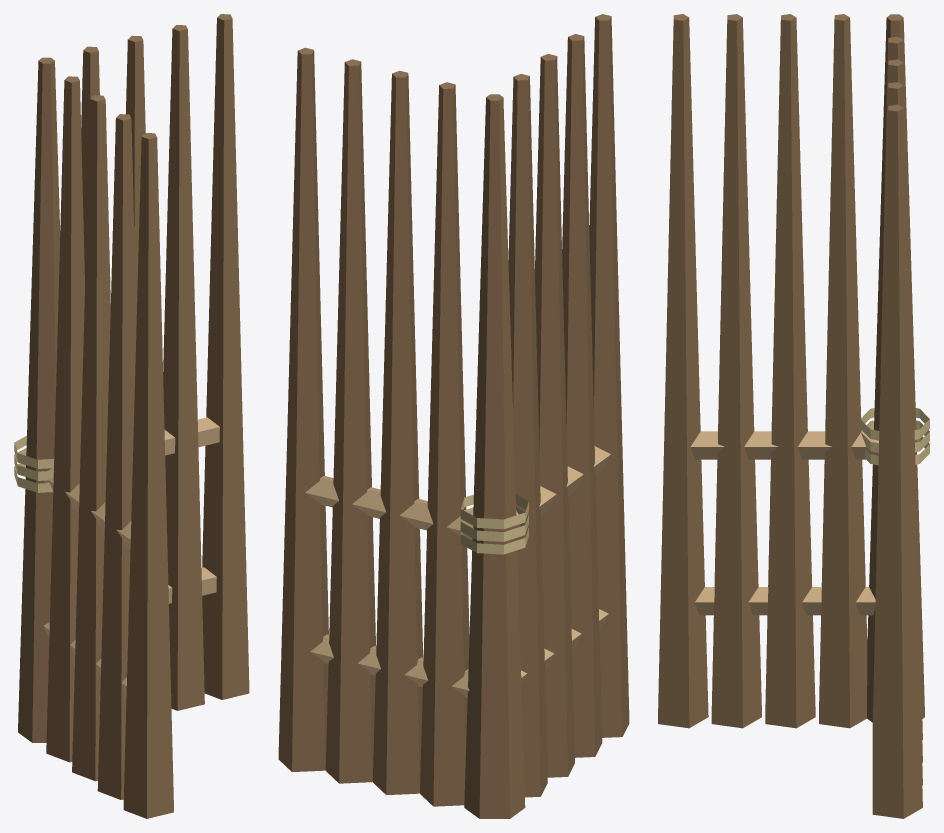
Rendered from palisade_06.glb.
The picture shows the model from 3 angles, left to right: view 1: azimuth 30°, elevation 25°; view 2: azimuth 150°, elevation 25°; view 3: azimuth 270°, elevation 25°; orthographic projection. The views are drawn at different scales.
Visible parts, largest first — view 1: palisade_06; view 2: palisade_06; view 3: palisade_06.
Part boxes in pixels (x1,y1,x2,y2): palisade_06: (14,14,249,818); palisade_06: (278,14,629,818); palisade_06: (658,14,929,818).
Size of the model in its own units: 0.6428 by 1.8 by 0.6336.
